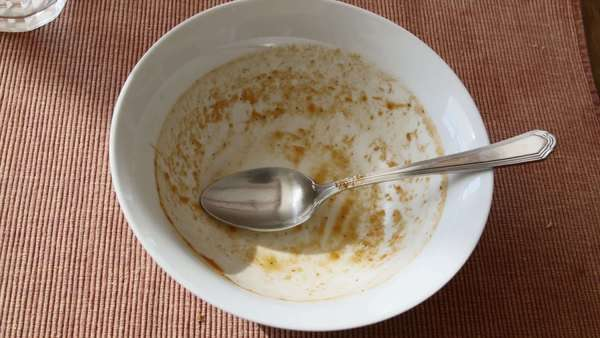bowl: (110, 3, 498, 332)
